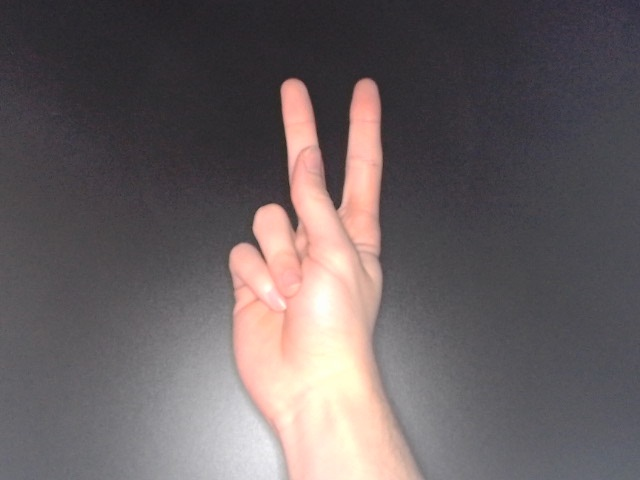k: (225, 70, 391, 449)
